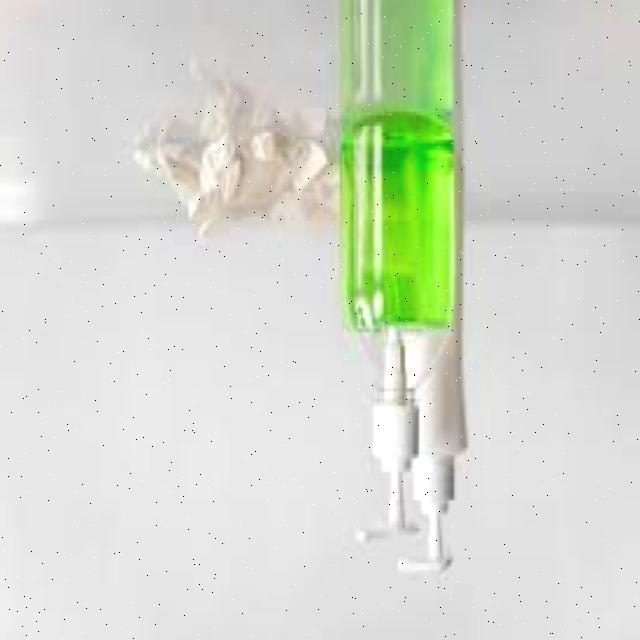liquid soap: (329, 103, 447, 557), (391, 140, 472, 582)
